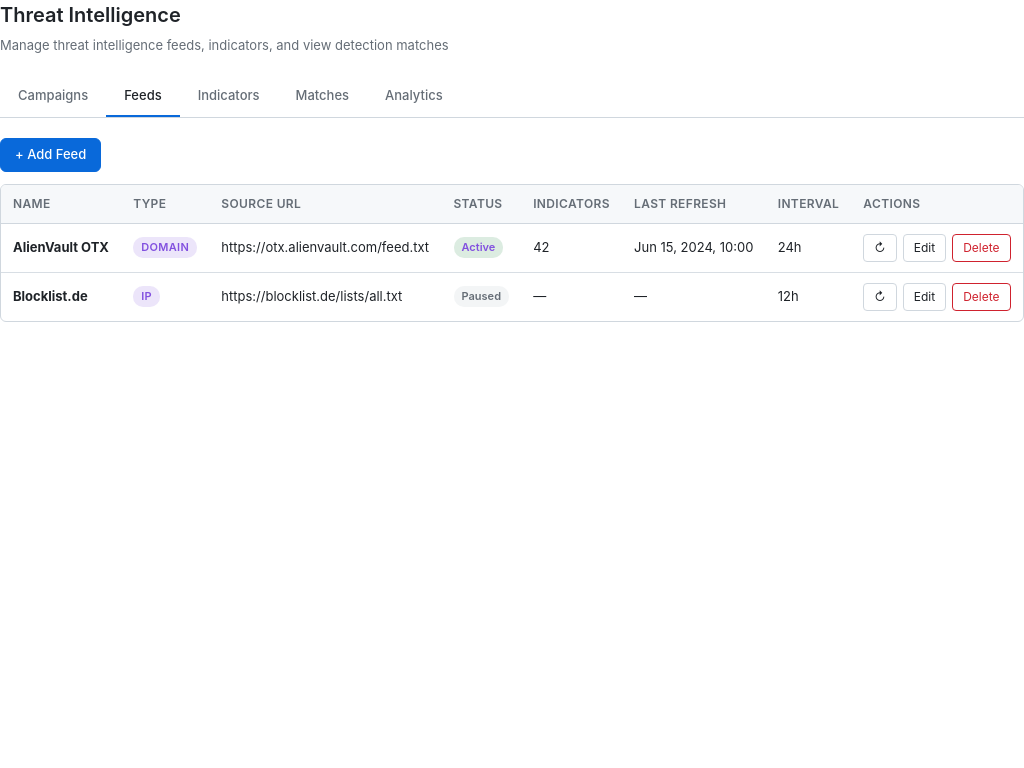
Scenario: ThreatIntelPage › opens Add Feed modal when clicking the button
Check: the text "AlienVault OTX" is shown, box [13,239,109,255]
Click the button "+ Add Feed": (51, 155) [0,138,101,172]
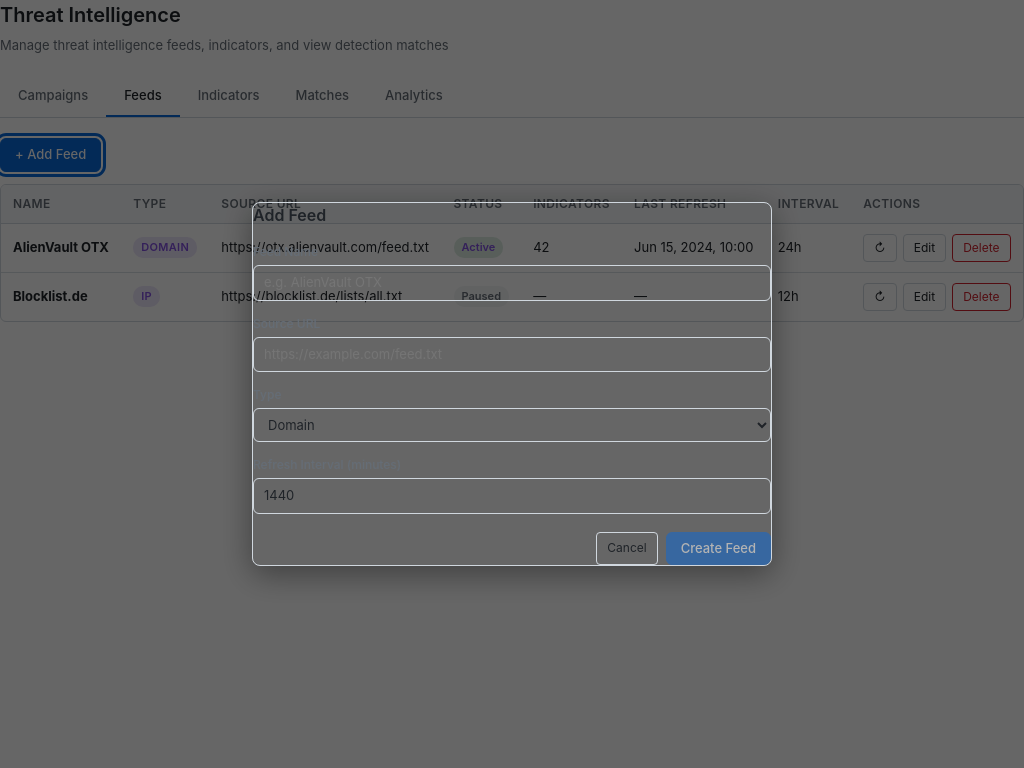
Check: the heading "Add Feed" is shown, box [253,205,326,225]
Check: the field with placeholder "e.g. AlienVault OTX" is shown, box [253,265,771,300]
